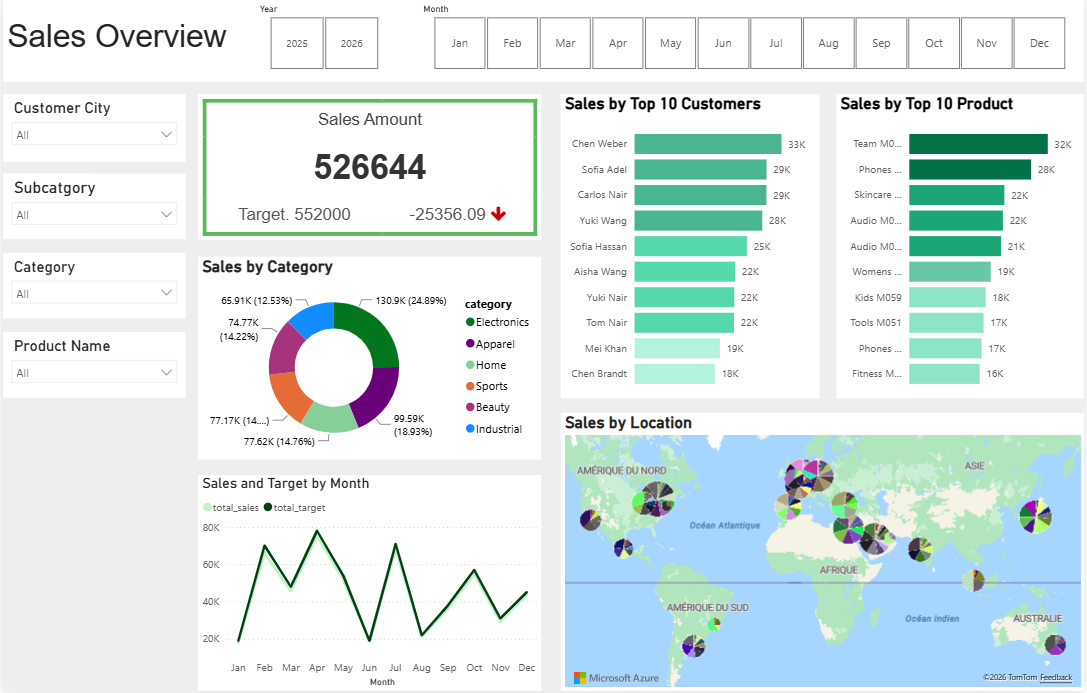

The dashboard page shown, as its layout file describes it:
{"tool":"powerbi","page":{"name":"Sales Overview","canvas":[1280,820],"ordinal":0},"visuals":[{"type":"textbox","box":[0,0,1280.5,99.5],"z":0},{"type":"slicer","title":"Month","fields":{"Values":["dim_date.Month Name"]},"box":[484.4,1.5,796.1,89.3],"z":1000},{"type":"slicer","fields":{"Values":["dim_product.subcatgory"]},"box":[0,208,216,78],"z":2000},{"type":"slicer","fields":{"Values":["dim_customer.city_name"]},"box":[0,114,216,80],"z":3000},{"type":"slicer","fields":{"Values":["dim_product.category"]},"box":[0,302,216,78],"z":4000},{"type":"slicer","fields":{"Values":["dim_product.product_name"]},"box":[0,396,216,78],"z":5000},{"type":"slicer","title":"Month","fields":{"Values":["dim_date.year"]},"box":[290.3,1.4,177.2,89.3],"z":6000},{"type":"BBED0A4D4D8D44CE93CF2DAFADEE466C","title":"Sales vs Target","fields":{"actual":["_mesure.total_sales"],"target1":["Sum(fact_sales_target.target)"],"target2":["_mesure.sales_vs_target"]},"box":[230,114,406,172],"z":7000},{"type":"donutChart","title":"Sales by Category","fields":{"Y":["Sum(fact_sale.line_total)"],"Category":["dim_product.category"]},"box":[230,306,406,240],"z":8000},{"type":"lineChart","title":"Sales and Target by Month","fields":{"Y":["_mesure.total_sales","_mesure.total_target"],"Category":["dim_date.Month Name"]},"box":[230,564,406,256],"z":9000},{"type":"barChart","title":"Sales by Top 10 Customers","fields":{"Y":["_mesure.total_sales"],"Category":["dim_customer.contact_name"]},"box":[660,114,306,360],"z":10000},{"type":"barChart","title":"Sales by Top 10 Product","fields":{"Y":["_mesure.total_sales"],"Category":["dim_product.product_name"]},"box":[986,114,294,360],"z":11000},{"type":"azureMap","title":"Sales by Location","fields":{"Category":["dim_customer.city_name"],"Series":["fact_sale.line_total"],"Size":["Sum(fact_sale.line_total)"]},"box":[660,490,620,330],"z":12000}]}

Visuals, with their boxes in screenshot pixels (x1, y1, x2, y2), scaled from the page's 1280x820 canvas onto the 1087x693 screenshot:
textbox: detection(0, 0, 1086, 84)
"Month" slicer: detection(411, 1, 1086, 77)
slicer - dim_product.subcatgory: detection(0, 176, 183, 242)
slicer - dim_customer.city_name: detection(0, 96, 183, 164)
slicer - dim_product.category: detection(0, 255, 183, 321)
slicer - dim_product.product_name: detection(0, 335, 183, 401)
"Month" slicer: detection(247, 1, 397, 77)
"Sales vs Target" BBED0A4D4D8D44CE93CF2DAFADEE466C: detection(195, 96, 540, 242)
"Sales by Category" donutChart: detection(195, 259, 540, 461)
"Sales and Target by Month" lineChart: detection(195, 477, 540, 692)
"Sales by Top 10 Customers" barChart: detection(560, 96, 820, 401)
"Sales by Top 10 Product" barChart: detection(837, 96, 1086, 401)
"Sales by Location" azureMap: detection(560, 414, 1086, 692)
